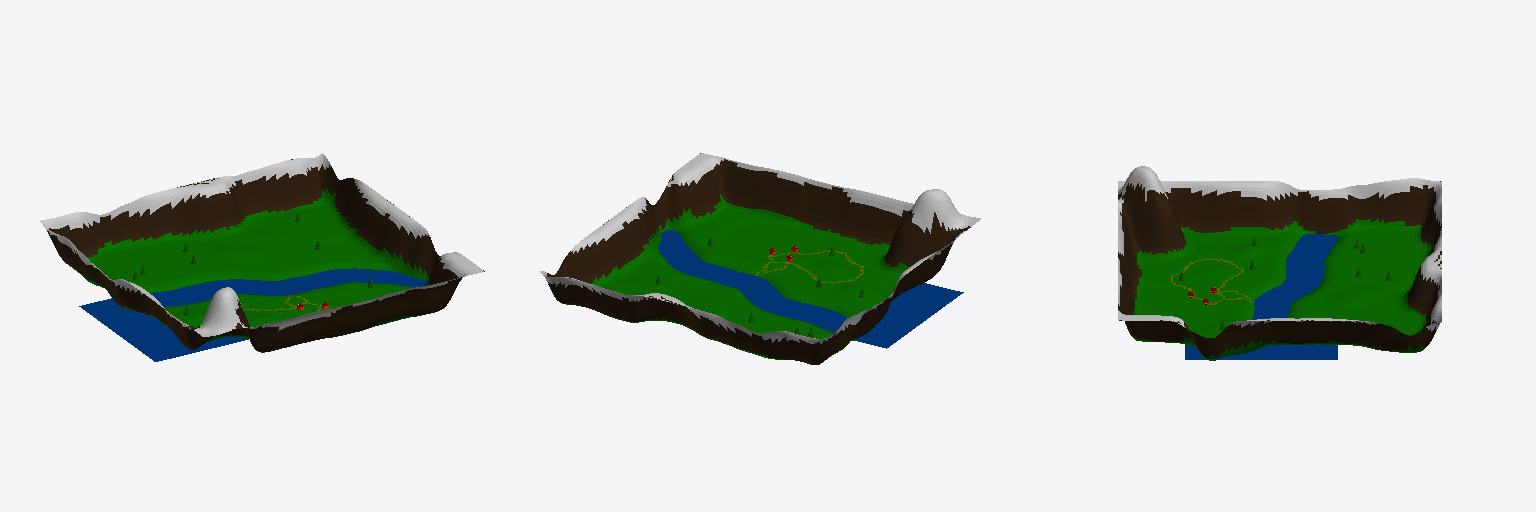
Rendered from earth.obj.
3 views of the same model, side by side, from view 1: azimuth 30°, elevation 25°; view 2: azimuth 150°, elevation 25°; view 3: azimuth 270°, elevation 25° (orthographic).
Parts seen in each view (by area): view 1: Plane, Plane.001; view 2: Plane, Plane.001; view 3: Plane, Plane.001.
Boxes of the visible parts, box(x1,y1,x2,y2) form: Plane: box(40, 153, 484, 352); Plane.001: box(79, 268, 426, 361); Plane: box(540, 153, 980, 364); Plane.001: box(658, 230, 963, 348); Plane: box(1118, 166, 1441, 360); Plane.001: box(1185, 234, 1337, 359).
Size of the model in its own units: 63.51 by 16.44 by 60.34.